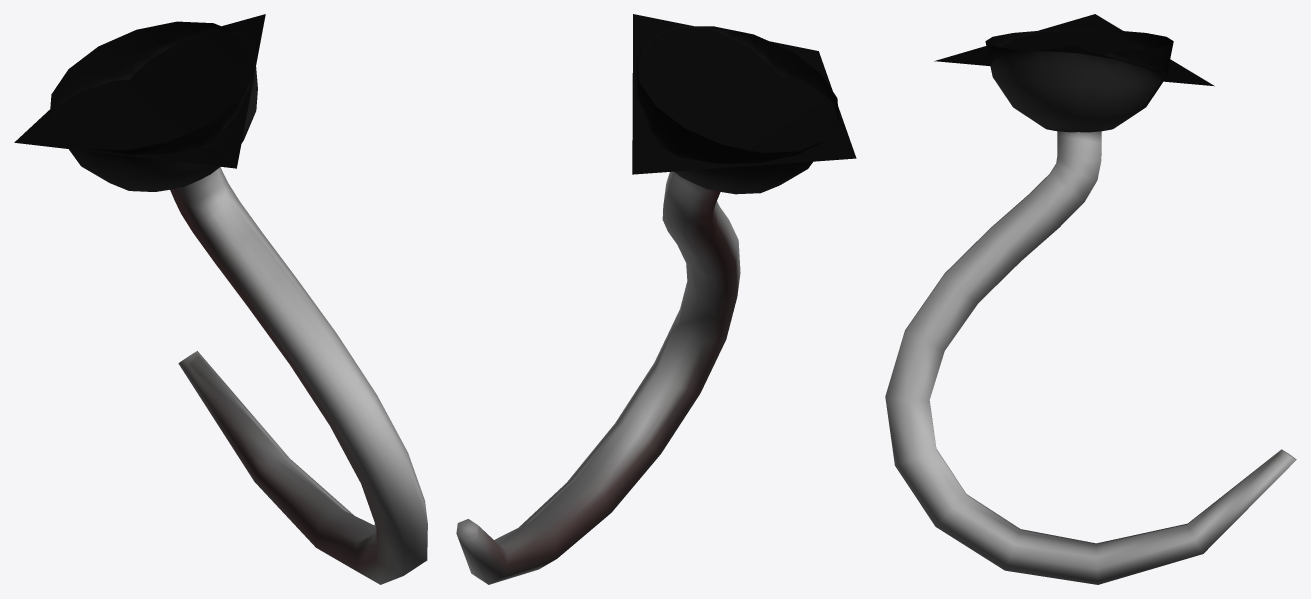
The model's file is Hook.fbx.
3 renders of one model, left to right at view 1: azimuth 30°, elevation 25°; view 2: azimuth 150°, elevation 25°; view 3: azimuth 270°, elevation 25°, orthographic. The views are drawn at different scales.
Visible parts, largest first — view 1: Attachment_Hook; view 2: Attachment_Hook; view 3: Attachment_Hook.
Part boxes in pixels (box(x1,y1,x2,y2)): Attachment_Hook: box(14, 14, 427, 584); Attachment_Hook: box(456, 14, 856, 584); Attachment_Hook: box(885, 14, 1296, 584).
Size of the model in its own units: 13.66 by 21.67 by 16.09.
